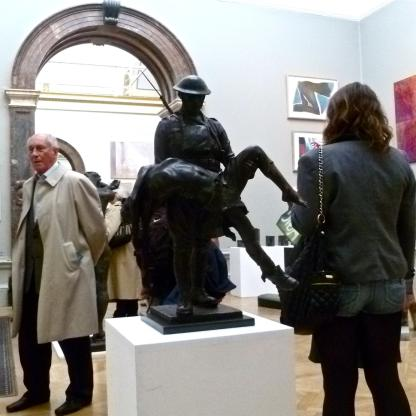Helmet: (171, 74, 209, 95)
